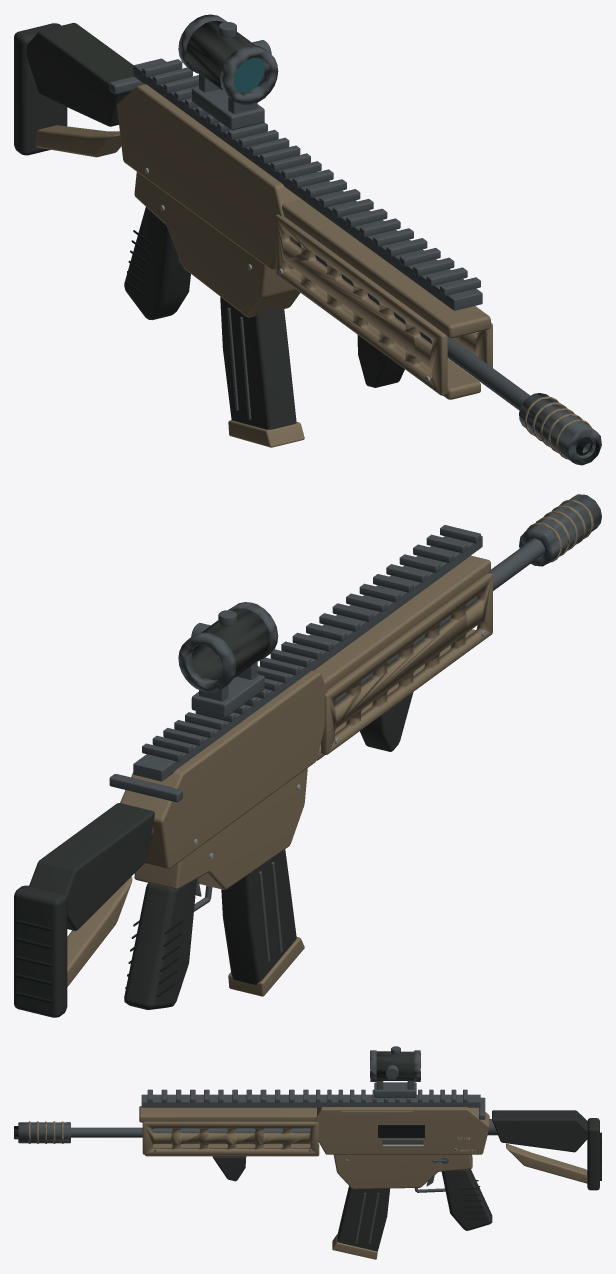
File: wep_rifle.glb
The picture shows the model from 3 angles, top to bottom: view 1: azimuth 30°, elevation 25°; view 2: azimuth 150°, elevation 25°; view 3: azimuth 270°, elevation 25°; orthographic projection. The views are drawn at different scales.
Parts seen in each view (by area): view 1: wep_rifle_nc7_coating, wep_rifle_nc7_polymer, wep_rifle_nc7_alloy, wep_rifle_nc7_lens, wep_rifle_nc7_dark; view 2: wep_rifle_nc7_coating, wep_rifle_nc7_polymer, wep_rifle_nc7_alloy, wep_rifle_nc7_dark; view 3: wep_rifle_nc7_coating, wep_rifle_nc7_polymer, wep_rifle_nc7_alloy, wep_rifle_nc7_dark, wep_rifle_nc7_edge.
Boxes of the visible parts, x1,y1,x2,y2 form: wep_rifle_nc7_coating: [35, 84, 591, 459]; wep_rifle_nc7_polymer: [14, 21, 404, 429]; wep_rifle_nc7_alloy: [109, 14, 601, 465]; wep_rifle_nc7_lens: [234, 57, 264, 92]; wep_rifle_nc7_dark: [125, 230, 599, 461]; wep_rifle_nc7_coating: [67, 499, 593, 996]; wep_rifle_nc7_polymer: [14, 608, 413, 1017]; wep_rifle_nc7_alloy: [109, 494, 601, 962]; wep_rifle_nc7_dark: [15, 919, 183, 1003]; wep_rifle_nc7_coating: [28, 1106, 587, 1259]; wep_rifle_nc7_polymer: [212, 1051, 599, 1251]; wep_rifle_nc7_alloy: [18, 1046, 497, 1243]; wep_rifle_nc7_dark: [14, 1125, 601, 1219]; wep_rifle_nc7_edge: [153, 1111, 457, 1164].
Bounding box in the file's own units: 0.0765 × 0.4145 × 1.06.
